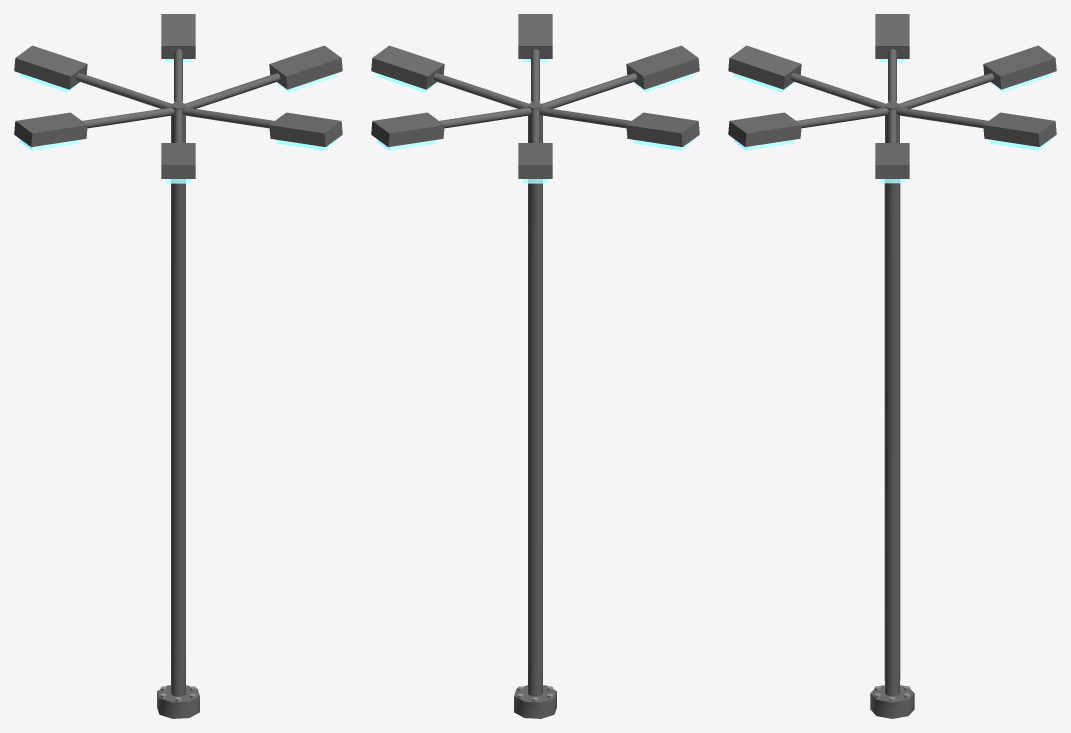
Rendered from Street Lights.glb.
3 renders of one model, left to right at view 1: azimuth 30°, elevation 25°; view 2: azimuth 150°, elevation 25°; view 3: azimuth 270°, elevation 25°, orthographic.
Visible parts, largest first — view 1: Root; view 2: Root; view 3: Root.
Boxes of the visible parts, x1,y1,x2,y2 form: Root: (14, 14, 342, 718); Root: (371, 14, 699, 718); Root: (728, 14, 1056, 718).
Bounding box in the file's own units: 1.43 × 2.71 × 1.3.
